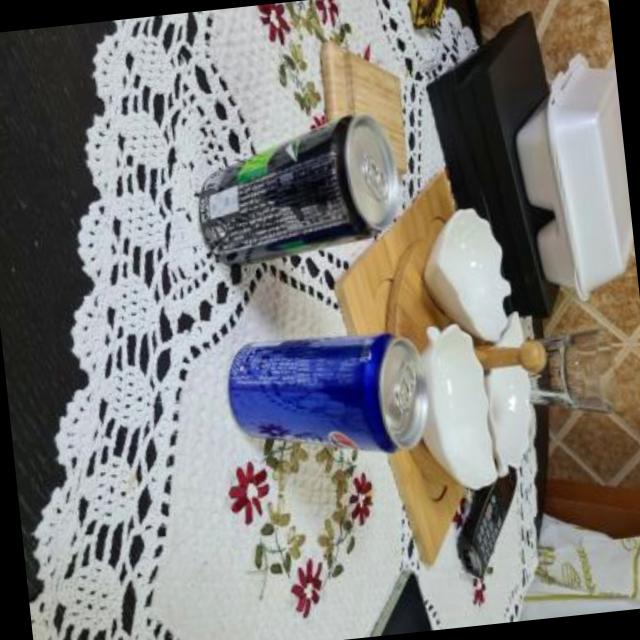metal: (201, 114, 400, 261), (228, 332, 427, 452)
